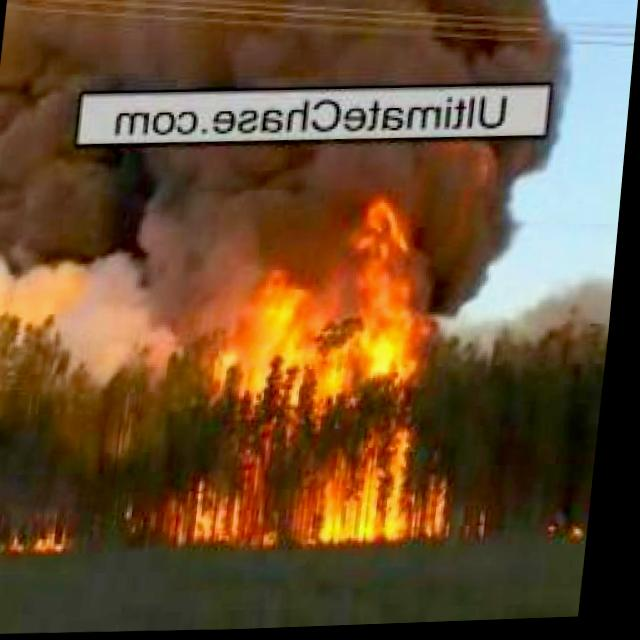Fire: (194, 191, 430, 409), (129, 408, 485, 548), (0, 513, 85, 555)
Smoke: (0, 131, 573, 341), (0, 0, 570, 99)
